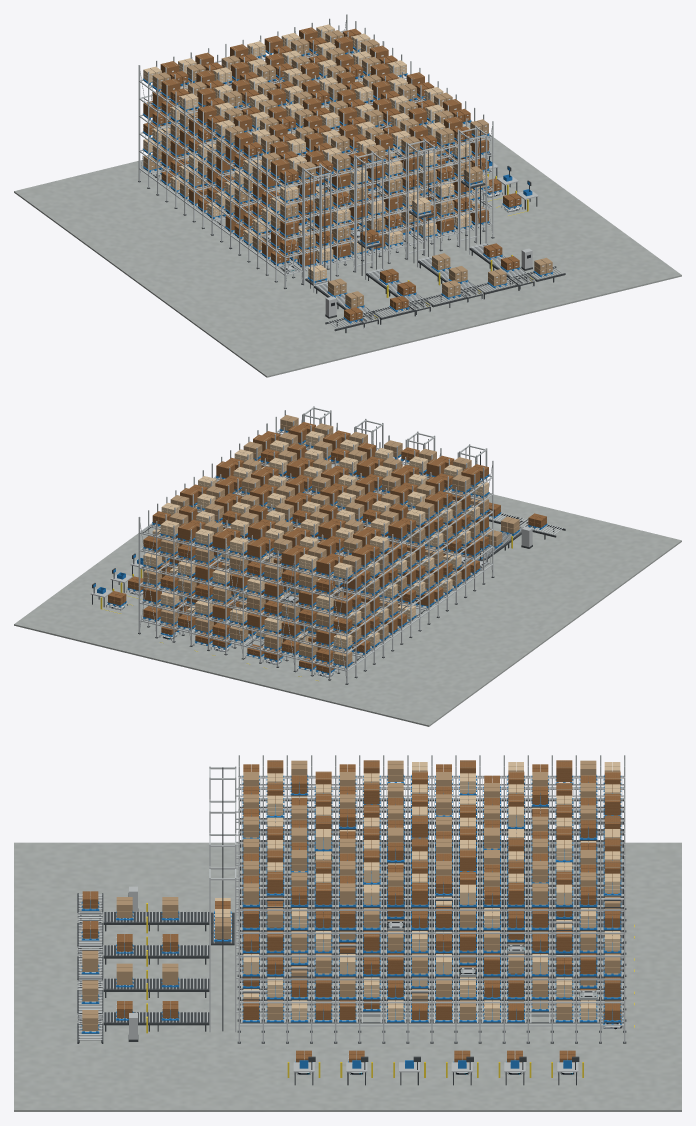
3 views of the same model, one above another, from view 1: azimuth 30°, elevation 25°; view 2: azimuth 150°, elevation 25°; view 3: azimuth 270°, elevation 25° (orthographic). The views are drawn at different scales.
Visible parts, largest first — view 1: Floor; view 2: Floor; view 3: Floor, Longitudinal channel rail.051, Longitudinal channel rail.012, Longitudinal channel rail.025, Longitudinal channel rail.038, Longitudinal channel rail.064, Longitudinal channel rail.077, Shuttle longitudinal track.023, Shuttle longitudinal track.071, Shuttle longitudinal track.047, Conveyor frame.003, Conveyor frame.001 (+2 smaller).
Boxes of the visible parts, left/top/right/bottom form: Floor: left=14, top=96, right=681, bottom=377; Floor: left=14, top=477, right=681, bottom=726; Floor: left=14, top=842, right=681, bottom=1111; Longitudinal channel rail.051: left=238, top=955, right=623, bottom=957; Longitudinal channel rail.012: left=238, top=1024, right=623, bottom=1026; Longitudinal channel rail.025: left=238, top=1001, right=623, bottom=1003; Longitudinal channel rail.038: left=238, top=978, right=623, bottom=980; Longitudinal channel rail.064: left=238, top=932, right=623, bottom=933; Longitudinal channel rail.077: left=238, top=909, right=623, bottom=910; Shuttle longitudinal track.023: left=240, top=1022, right=623, bottom=1023; Shuttle longitudinal track.071: left=240, top=976, right=623, bottom=977; Shuttle longitudinal track.047: left=240, top=999, right=623, bottom=1000; Conveyor frame.003: left=153, top=1012, right=209, bottom=1025; Conveyor frame.001: left=153, top=945, right=209, bottom=958.
Size of the model in its own units: 36 by 9.79 by 38.
23 materials, 2 textured.
